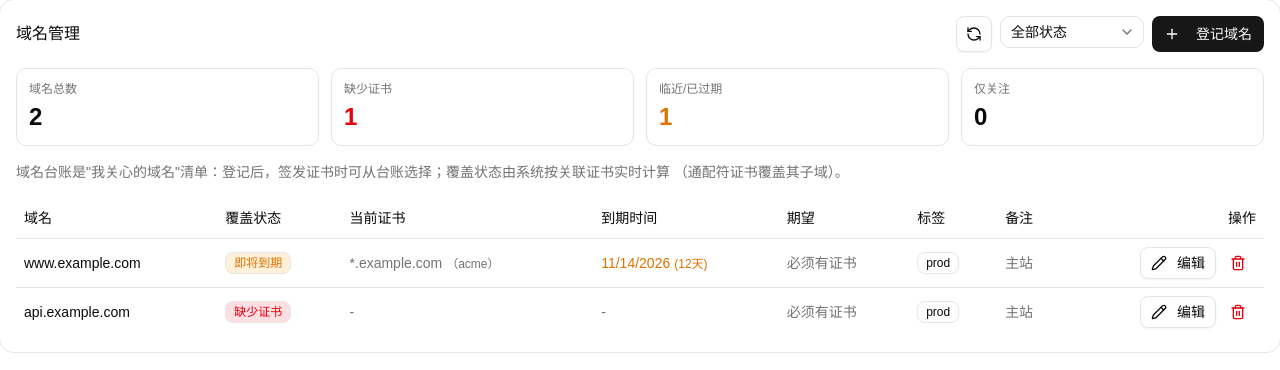
Test: DomainsPage › 按覆盖状态筛选
Expected: the text "www.example.com" is shown, [16,238,217,287]
Click the dropdown at (1072, 32), box [1000,16,1144,48]
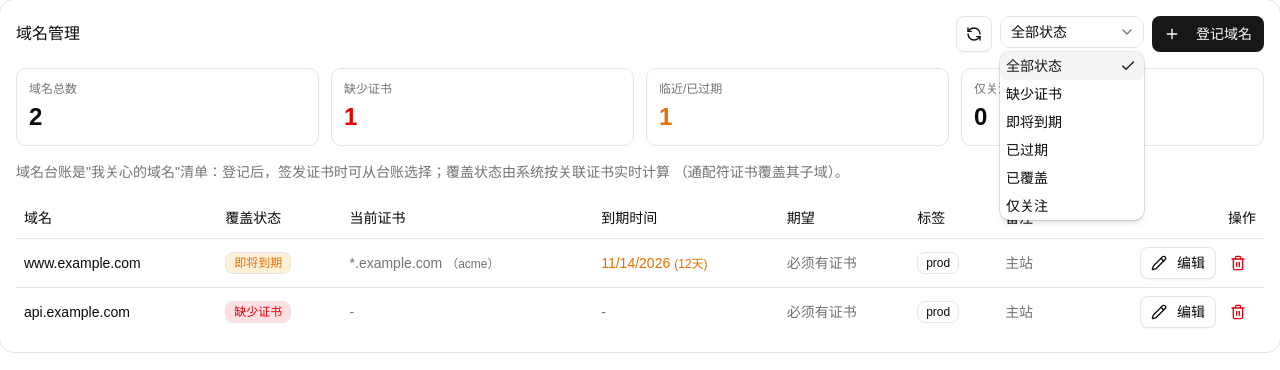
Click the option "缺少证书" at (1034, 94), box [1006,86,1062,102]
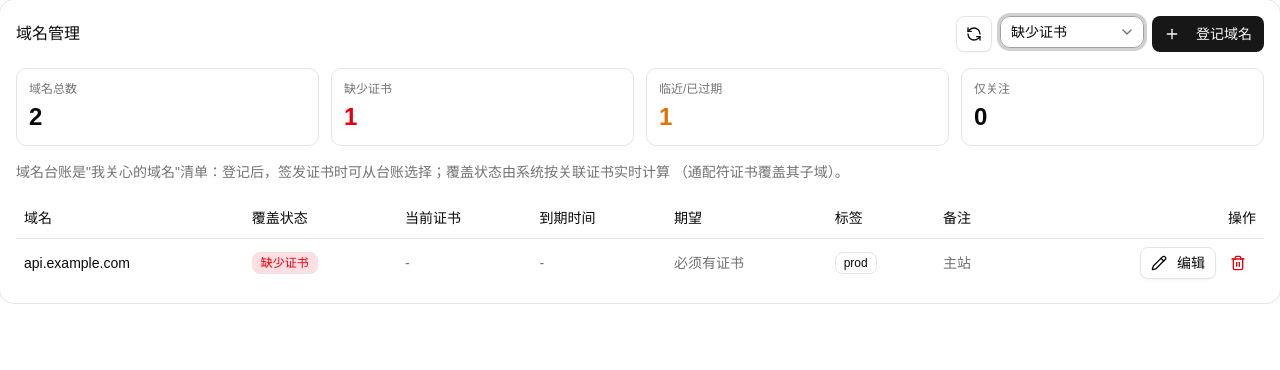
Expected: the text "api.example.com" is shown, [16,238,244,286]
Result: the text "www.example.com" is gone
